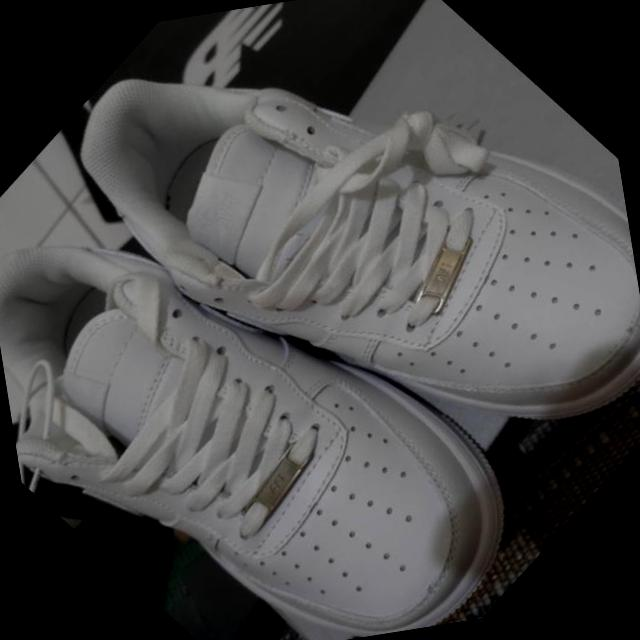nike_fake_airforce: (23, 0, 640, 617), (0, 35, 579, 640)
